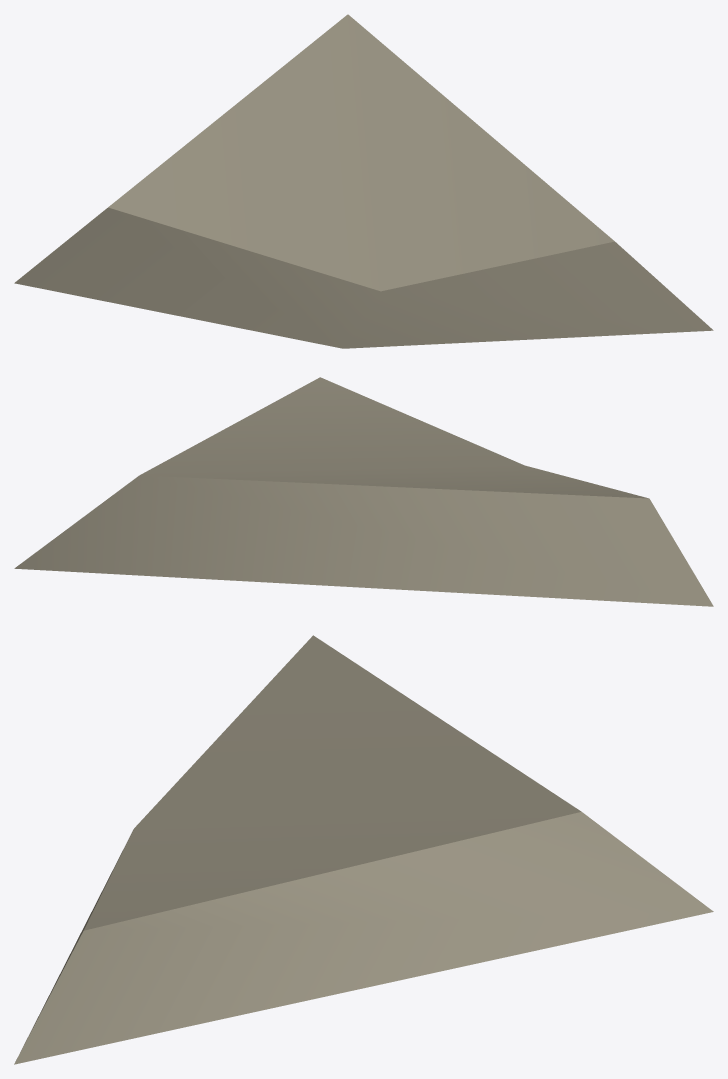
Rendered from Stones_1h.fbx.
3 views of the same model, one above another, from view 1: azimuth 30°, elevation 25°; view 2: azimuth 150°, elevation 25°; view 3: azimuth 270°, elevation 25° (orthographic). The views are drawn at different scales.
Visible parts, largest first — view 1: Stones_1h; view 2: Stones_1h; view 3: Stones_1h.
Boxes of the visible parts, x1,y1,x2,y2 form: Stones_1h: [14, 14, 713, 348]; Stones_1h: [14, 377, 713, 606]; Stones_1h: [14, 635, 713, 1064].
Bounding box in the file's own units: 25.63 × 7.26 × 24.59.
